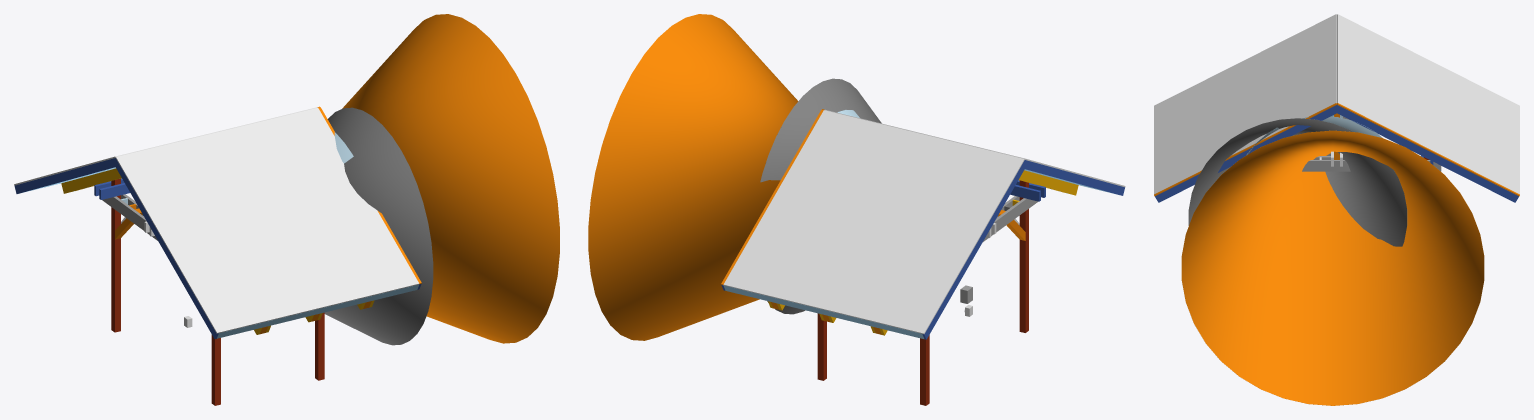
File: Gazebo 12.0 Speakers 1.dae
The picture shows the model from 3 angles, left to right: view 1: azimuth 30°, elevation 25°; view 2: azimuth 150°, elevation 25°; view 3: azimuth 270°, elevation 25°; orthographic projection. The views are drawn at different scales.
Parts seen in each view (by area): view 1: 681bab7c04b8e4701c657add (×54); view 2: 681bab7c04b8e4701c657add (×55); view 3: 681bab7c04b8e4701c657add (×92).
Boxes of the visible parts, <box> form: 681bab7c04b8e4701c657add (×54): <box>14,14,559,405</box>; 681bab7c04b8e4701c657add (×55): <box>588,14,1124,405</box>; 681bab7c04b8e4701c657add (×92): <box>1154,14,1519,405</box>.
Bounding box in the file's own units: 10.88 × 10.7 × 8.89.
